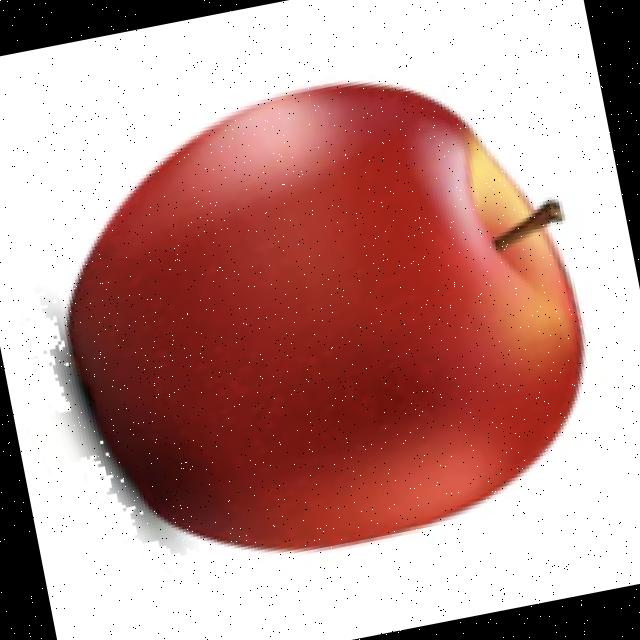apple: (33, 75, 591, 556)
